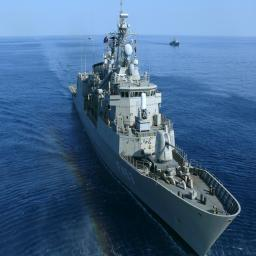Fragata: (70, 2, 245, 256)
